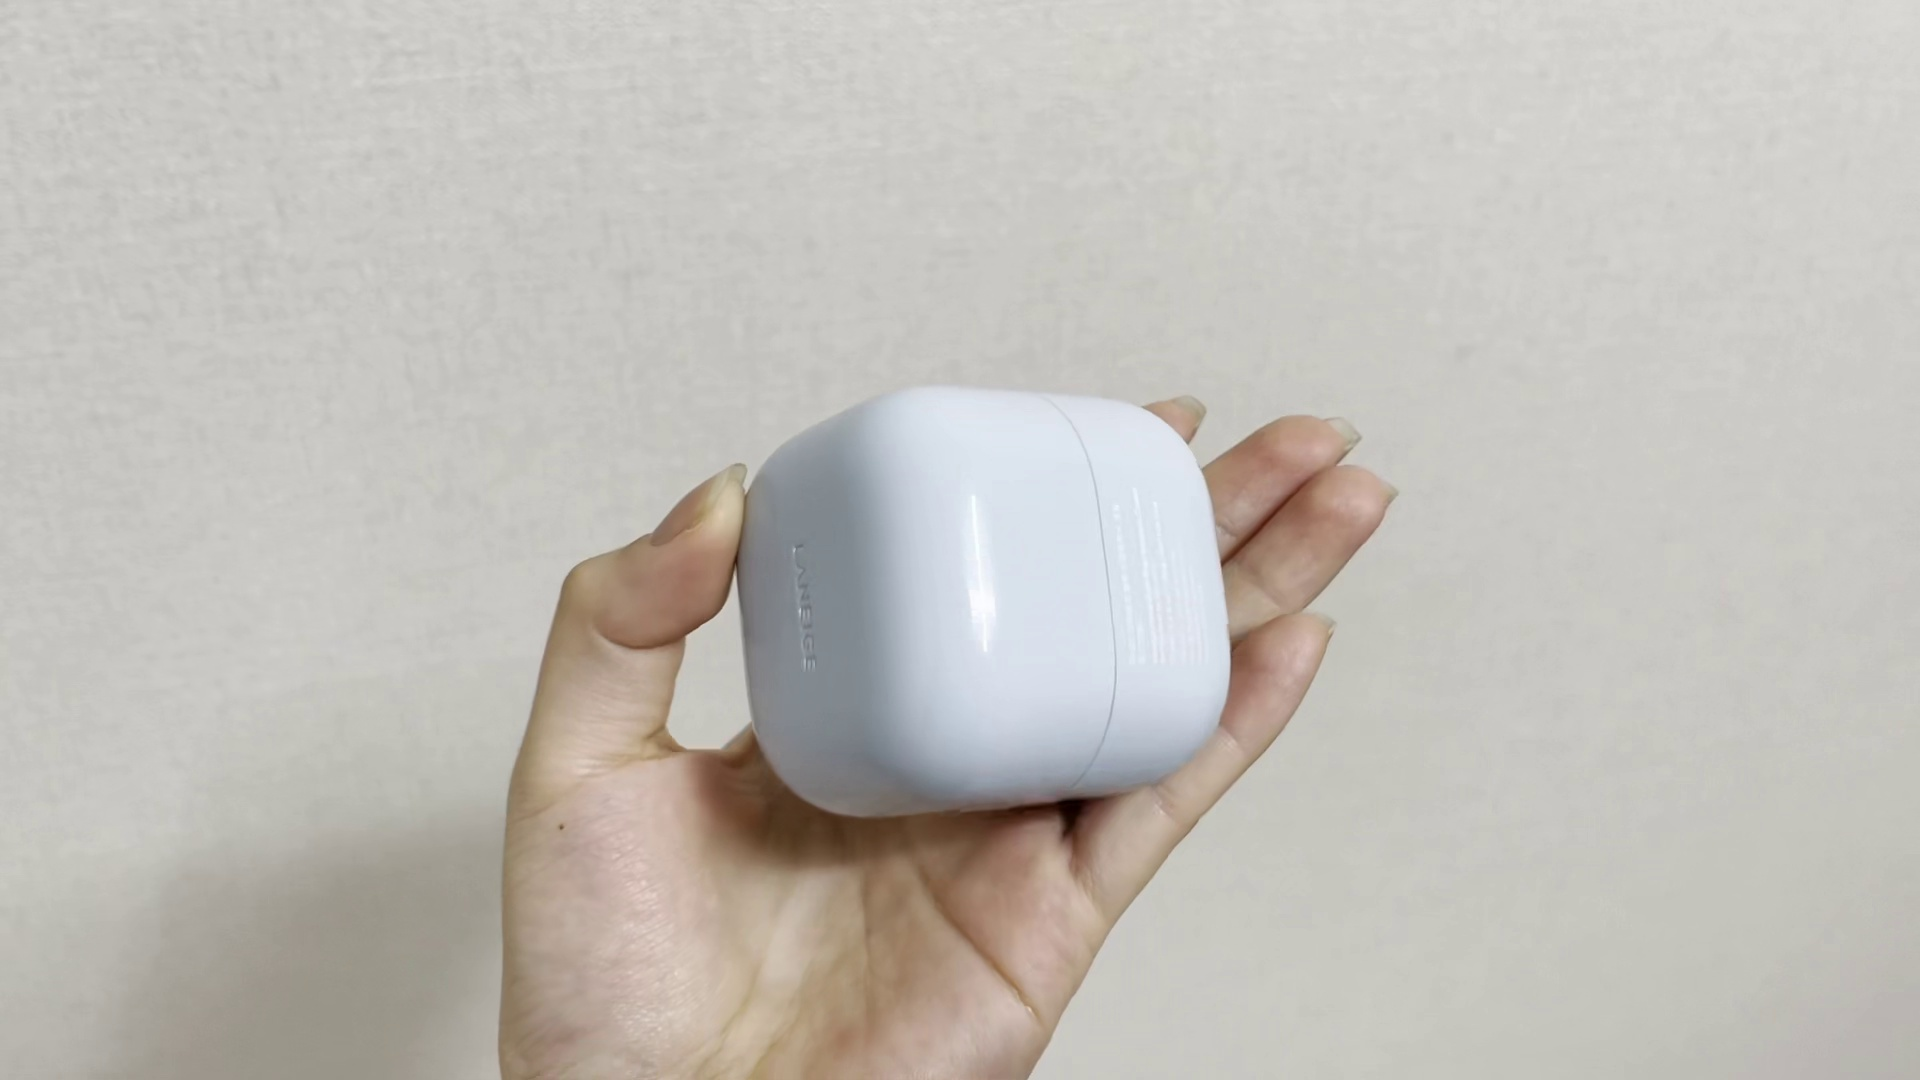cream: (736, 386, 1232, 816)
